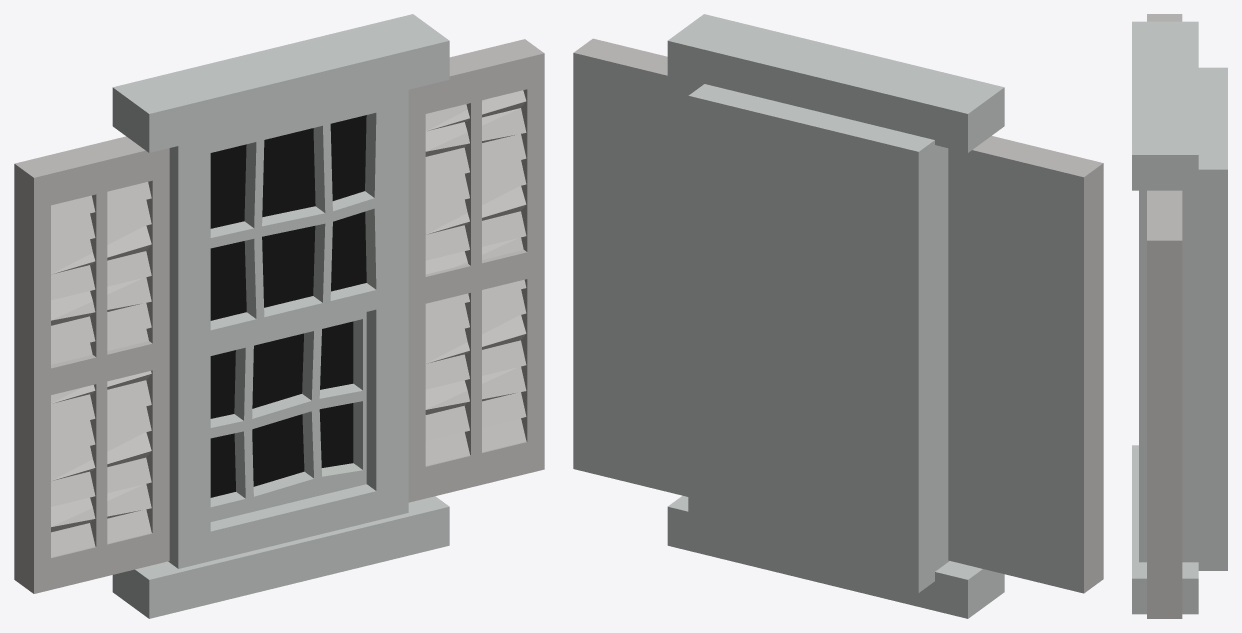
The model's file is SM_Bld_Mansion_Window_01.glb.
3 views of the same model, side by side, from view 1: azimuth 30°, elevation 25°; view 2: azimuth 150°, elevation 25°; view 3: azimuth 270°, elevation 25° (orthographic). The views are drawn at different scales.
Visible parts, largest first — view 1: SM_Bld_Mansion_Window_01_part00; view 2: SM_Bld_Mansion_Window_01_part00; view 3: SM_Bld_Mansion_Window_01_part00.
Part boxes in pixels (left/top/right/bottom): SM_Bld_Mansion_Window_01_part00: left=14, top=14, right=544, bottom=618; SM_Bld_Mansion_Window_01_part00: left=573, top=14, right=1103, bottom=618; SM_Bld_Mansion_Window_01_part00: left=1132, top=14, right=1227, bottom=618.
Size of the model in its own units: 2.21 by 2.08 by 0.3943.
1 material, 1 textured.
